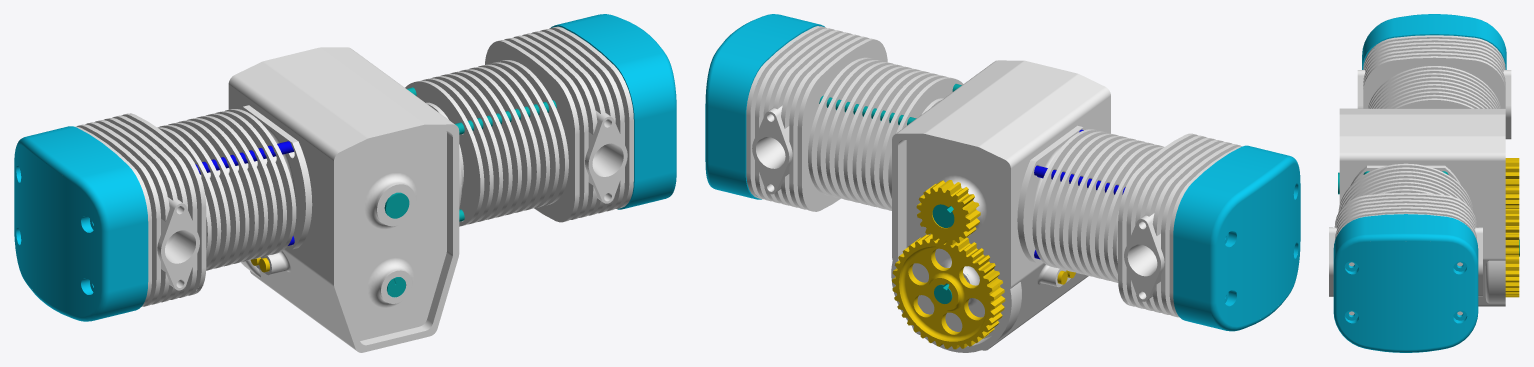
The model's file is asset.glb.
3 renders of one model, left to right at view 1: azimuth 30°, elevation 25°; view 2: azimuth 150°, elevation 25°; view 3: azimuth 270°, elevation 25°, orthographic. The views are drawn at different scales.
Visible parts, largest first — view 1: body_1, body_12, body_2, body_3, body_4, body_8, body_5, body, body_6, body_22; view 2: body_1, body_12, body_3, body_4, body_2, body_8, body_5, body_21, body_23; view 3: body_5, body_1, body_8, body_3, body_4, body_2, body_12, body_21, body_23.
Part boxes in pixels (x1,y1,x2,y2): body_1: (228, 47, 459, 352); body_12: (14, 126, 148, 321); body_2: (405, 60, 568, 226); body_3: (157, 105, 312, 270); body_4: (485, 26, 633, 222); body_8: (75, 113, 206, 306); body_5: (551, 14, 676, 209); body: (195, 141, 293, 174); body_6: (407, 87, 556, 221); body_22: (384, 192, 409, 218); body_1: (891, 60, 1110, 352); body_12: (1173, 145, 1300, 331); body_3: (1017, 125, 1164, 282); body_4: (746, 26, 887, 211); body_2: (808, 57, 963, 210); body_8: (1118, 133, 1242, 317); body_5: (705, 14, 824, 199); body_21: (892, 234, 1005, 349); body_23: (916, 180, 980, 245); body_5: (1333, 214, 1478, 352); body_1: (1339, 108, 1505, 306); body_8: (1357, 35, 1511, 139); body_3: (1368, 66, 1500, 108); body_4: (1329, 192, 1482, 315); body_2: (1338, 163, 1473, 212); body_12: (1362, 14, 1506, 69); body_21: (1505, 209, 1519, 297); body_23: (1505, 158, 1519, 208).
Size of the model in its own units: 0.9992 by 0.367 by 0.3602.
